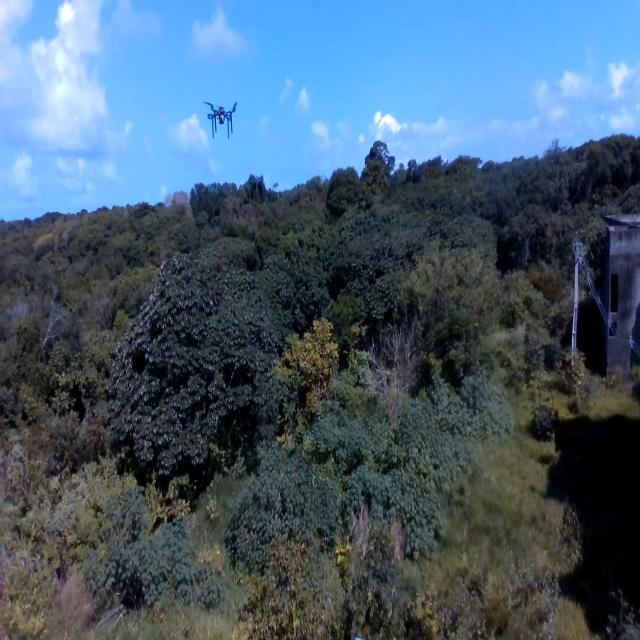-uav-: (194, 81, 251, 152)
